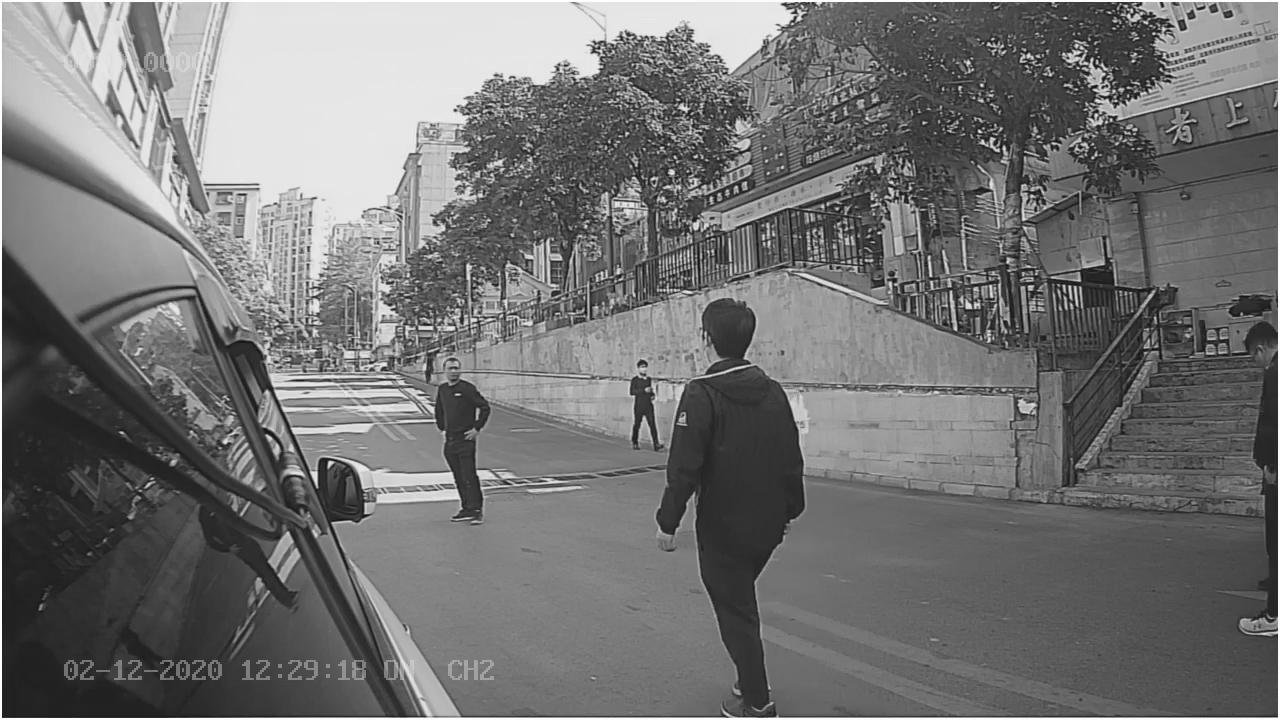person: (656, 291, 808, 554), (410, 349, 507, 536)
